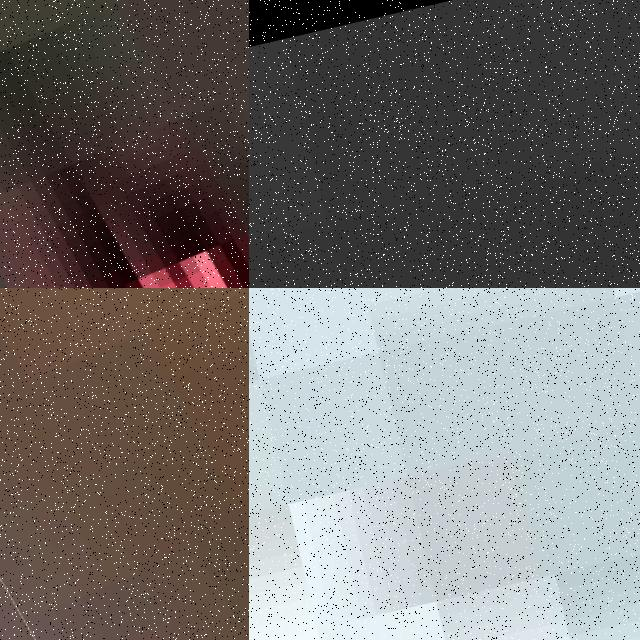0: (0, 0, 249, 288)
drone: (0, 288, 249, 640)
